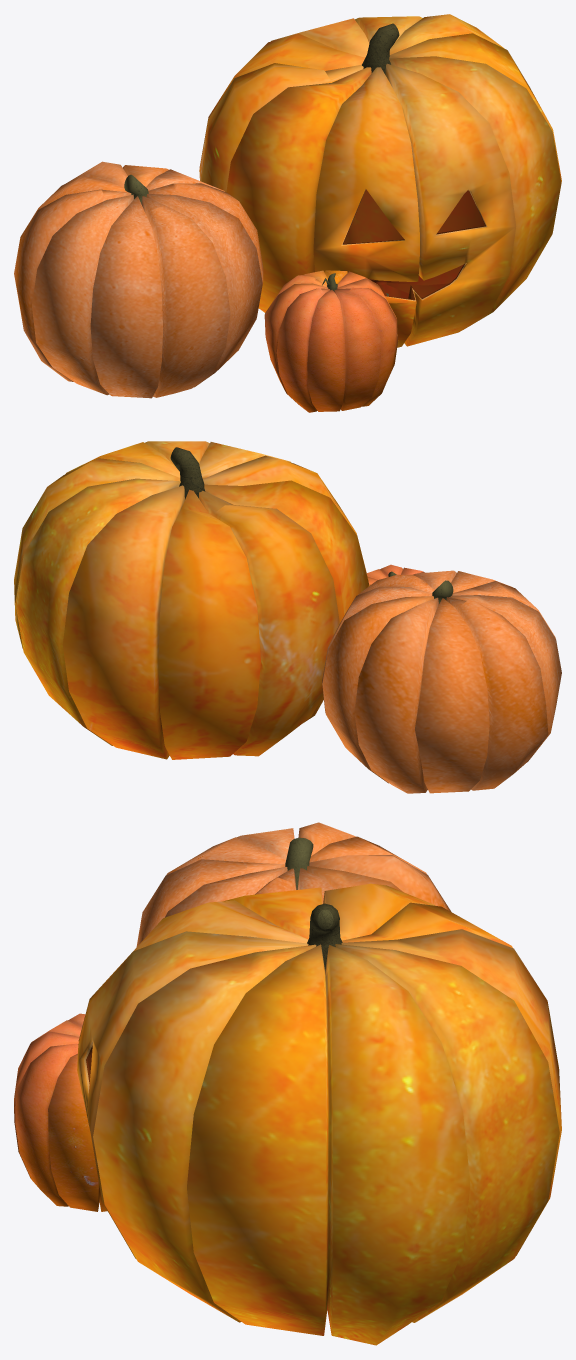
The model's file is Pumpkin-AR.glb.
3 views of the same model, one above another, from view 1: azimuth 30°, elevation 25°; view 2: azimuth 150°, elevation 25°; view 3: azimuth 270°, elevation 25° (orthographic). The views are drawn at different scales.
Parts seen in each view (by area): view 1: Pumpkin02, Extra_Pumpkin, Extra_Pumpkin1; view 2: Pumpkin02, Extra_Pumpkin, Extra_Pumpkin1; view 3: Pumpkin02, Extra_Pumpkin, Extra_Pumpkin1.
Part boxes in pixels (x1,y1,x2,y2): Pumpkin02: (199, 14, 561, 347); Extra_Pumpkin: (14, 161, 263, 398); Extra_Pumpkin1: (264, 270, 398, 412); Pumpkin02: (14, 441, 368, 759); Extra_Pumpkin: (322, 570, 561, 793); Extra_Pumpkin1: (367, 564, 424, 586); Pumpkin02: (77, 883, 561, 1345); Extra_Pumpkin: (136, 822, 451, 947); Extra_Pumpkin1: (14, 1013, 107, 1211).
Bounding box in the file's own units: 1.05 × 0.5534 × 0.7103.
Materials: 2 (2 with a texture image).
